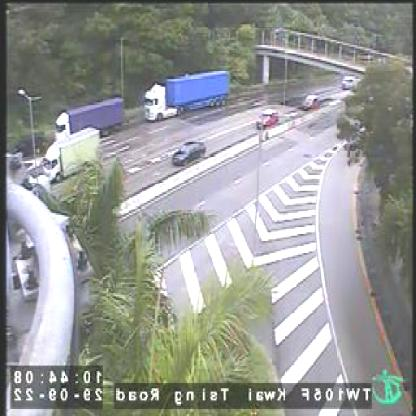Car: (170, 137, 207, 170), (258, 104, 280, 133), (304, 90, 321, 113)
Truck: (146, 62, 232, 123), (53, 92, 126, 142), (46, 122, 102, 186)
